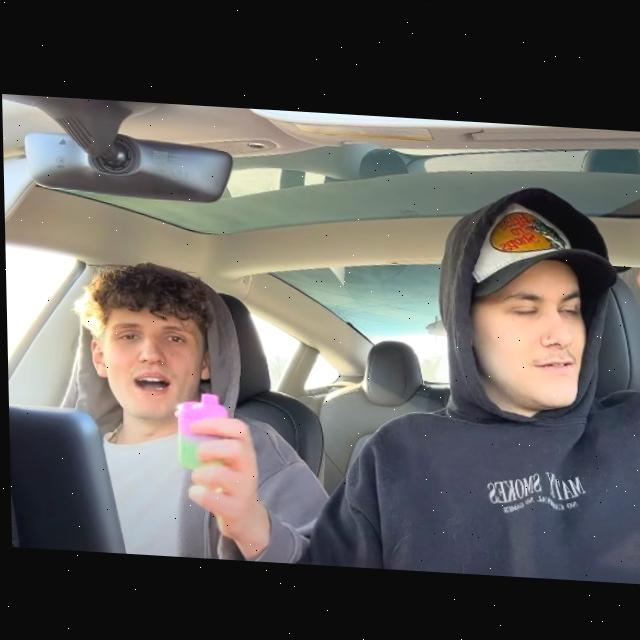vape: (172, 390, 227, 468)
